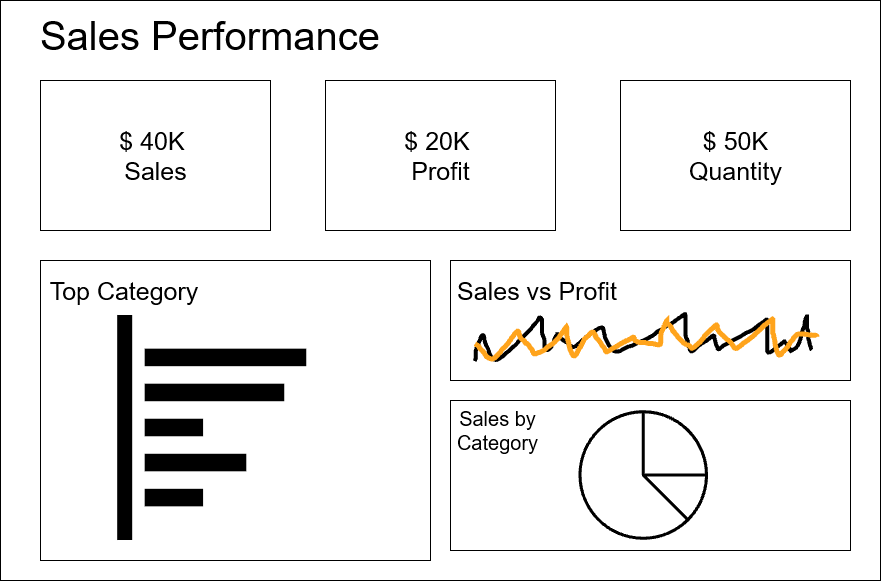

What the dashboard file says about the page in this screenshot:
{"tool":"tableau","page":{"name":"Sales Dashboard","canvas":[1200,800],"ordinal":1},"visuals":[{"type":"image","param":"Image/Icon - Logo.png","box":[0,0,73,59]},{"type":"text","box":[73,0,820,59]},{"type":"dashboard-object","box":[940,6,91,70]},{"type":"dashboard-object","box":[1031,6,91,70]},{"type":"blank","box":[952,10,237,86]},{"type":"worksheet","title":"Legend KPI","mark":"Automatic","box":[0,59,1200,29]},{"type":"worksheet","title":"KPI Sales","mark":"Automatic","rows":["Calculation_721701895347843083"],"cols":["Order Date"],"box":[0,88,400,284]},{"type":"worksheet","title":"KPI Profit","mark":"Automatic","rows":["Min/Max Sales (copy)_237846410425847814"],"cols":["Order Date"],"box":[400,88,400,284]},{"type":"worksheet","title":"KPI Quantity","mark":"Automatic","rows":["Min/Max Sales (copy) (copy)_237846410425856007"],"cols":["Order Date"],"box":[800,88,400,284]},{"type":"text","box":[952,96,237,34]},{"type":"parameter","param":"[Parameters].[Parameter 1]","box":[952,130,237,52]},{"type":"text","box":[952,182,237,29]},{"type":"filter","title":"KPI Sales","param":"[federated.1kpxa041aiai2y1cl4pui1t4eju9].[none:Category:nk]","box":[952,211,237,52]},{"type":"filter","title":"KPI Sales","param":"[federated.1kpxa041aiai2y1cl4pui1t4eju9].[none:Sub-Category:nk]","box":[952,263,237,52]},{"type":"blank","box":[952,315,237,60]},{"type":"text","box":[952,375,237,29]},{"type":"text","box":[17,389,566,34]},{"type":"text","box":[617,389,566,34]},{"type":"filter","title":"KPI Sales","param":"[federated.1kpxa041aiai2y1cl4pui1t4eju9].[none:Region:nk]","box":[952,404,237,52]},{"type":"worksheet","title":"Legend Subcategory","mark":"Automatic","box":[17,423,374,32]},{"type":"text","box":[391,423,192,32]},{"type":"text","box":[617,423,566,25]},{"type":"worksheet","title":"Weekly Trends","mark":"Automatic","rows":["Calculation_721701895334993921","CY Sales (copy)_237846410424180736"],"cols":["Order Date"],"box":[617,448,566,335]},{"type":"worksheet","title":"Subcategory Comparison","mark":"Bar","rows":["Sub-Category","Calculation_2435040078806671369"],"cols":["CY Sales (copy)_721701895335804930","Calculation_721701895334993921","CY Sales (copy)_237846410424180736"],"box":[17,455,566,327.9]},{"type":"filter","title":"KPI Sales","param":"[federated.1kpxa041aiai2y1cl4pui1t4eju9].[none:State:nk]","box":[952,456,237,52]},{"type":"filter","title":"KPI Sales","param":"[federated.1kpxa041aiai2y1cl4pui1t4eju9].[none:City:nk]","box":[952,508,237,52]}]}

Visuals, with their boxes in screenshot pixels (x1, y1, x2, y2), scaled from the page's 1200x800 canvas onto the 882x582 screenshot:
image: bbox(0, 0, 54, 43)
text: bbox(54, 0, 656, 43)
dashboard-object: bbox(691, 4, 758, 55)
dashboard-object: bbox(758, 4, 825, 55)
blank: bbox(700, 7, 874, 70)
"Legend KPI" worksheet: bbox(0, 43, 881, 64)
"KPI Sales" worksheet: bbox(0, 64, 294, 271)
"KPI Profit" worksheet: bbox(294, 64, 588, 271)
"KPI Quantity" worksheet: bbox(588, 64, 881, 271)
text: bbox(700, 70, 874, 95)
parameter: bbox(700, 95, 874, 132)
text: bbox(700, 132, 874, 154)
"KPI Sales" filter: bbox(700, 154, 874, 191)
"KPI Sales" filter: bbox(700, 191, 874, 229)
blank: bbox(700, 229, 874, 273)
text: bbox(700, 273, 874, 294)
text: bbox(12, 283, 429, 308)
text: bbox(453, 283, 870, 308)
"KPI Sales" filter: bbox(700, 294, 874, 332)
"Legend Subcategory" worksheet: bbox(12, 308, 287, 331)
text: bbox(287, 308, 429, 331)
text: bbox(453, 308, 870, 326)
"Weekly Trends" worksheet: bbox(453, 326, 870, 570)
"Subcategory Comparison" worksheet (Bar marks): bbox(12, 331, 429, 570)
"KPI Sales" filter: bbox(700, 332, 874, 370)
"KPI Sales" filter: bbox(700, 370, 874, 407)
